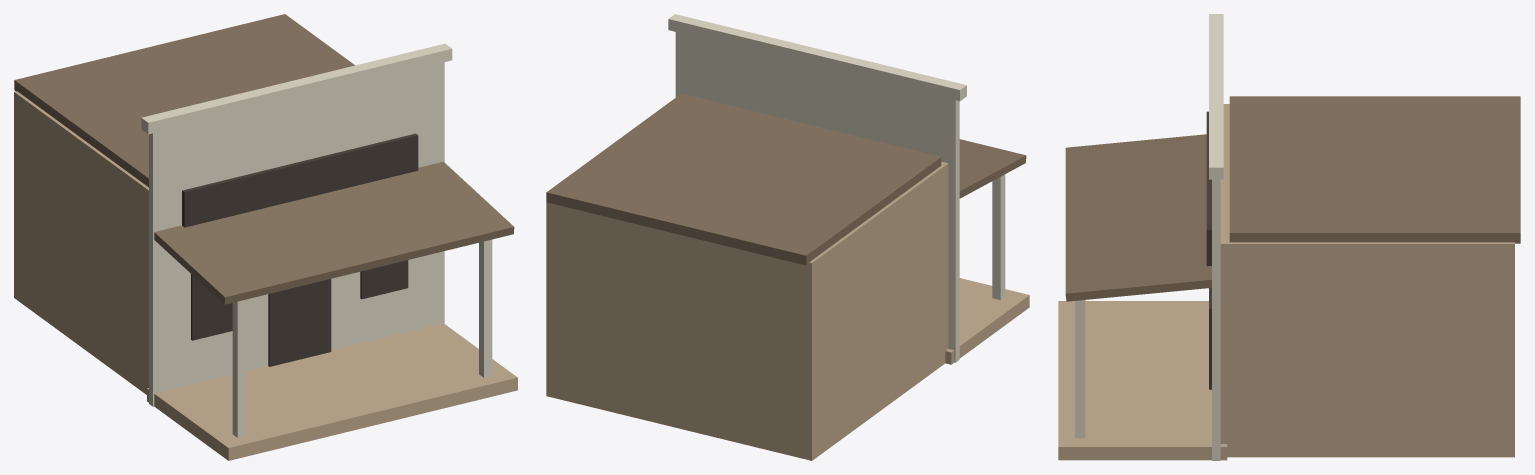
The model's file is Storefront_Tan.glb.
The picture shows the model from 3 angles, left to right: view 1: azimuth 30°, elevation 25°; view 2: azimuth 150°, elevation 25°; view 3: azimuth 270°, elevation 25°; orthographic projection. The views are drawn at different scales.
Visible parts, largest first — view 1: Storefront_Tan; view 2: Storefront_Tan; view 3: Storefront_Tan.
Part boxes in pixels (bbox=[...]): Storefront_Tan: bbox=[14, 14, 517, 460]; Storefront_Tan: bbox=[546, 14, 1029, 460]; Storefront_Tan: bbox=[1058, 14, 1520, 460].
Size of the model in its own units: 4.94 by 4.45 by 6.29.
